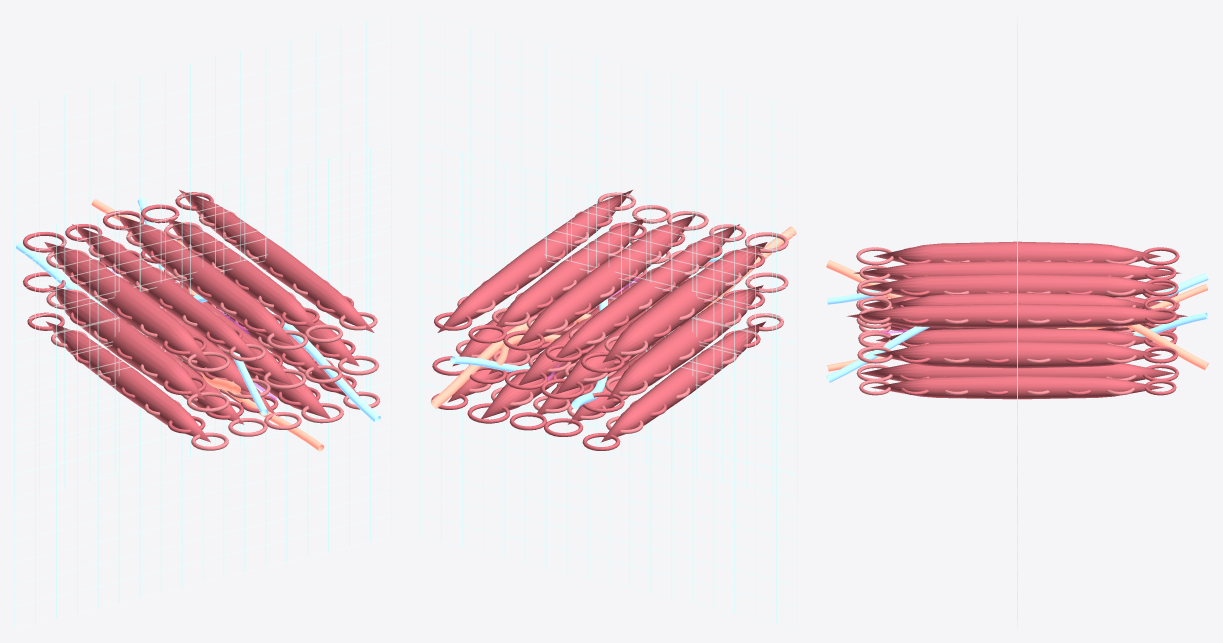
The model's file is heart-tissue-responding-3.glb.
The picture shows the model from 3 angles, left to right: view 1: azimuth 30°, elevation 25°; view 2: azimuth 150°, elevation 25°; view 3: azimuth 270°, elevation 25°; orthographic projection. The views are drawn at different scales.
Visible parts, largest first — view 1: ECM_Bot, ECM_Top, Fibre_12, Fibre_14, Fibre_10, Fibre_11, Fibre_5, Fibre_0, Fibre_13, CapVen1, Fibre_7, Fibre_6 (+6 smaller); view 2: ECM_Bot, ECM_Top, Fibre_12, Fibre_14, Fibre_10, Fibre_11, Fibre_5, Fibre_0, Fibre_13, CapArt1, Fibre_6, Fibre_7 (+7 smaller); view 3: Fibre_14, Fibre_9, Fibre_12, Fibre_4, Fibre_10, Fibre_11, Fibre_8, Fibre_3, Fibre_13, CapArt1, CapVen1, CapVen2 (+1 smaller).
Boxes of the visible parts, x1=… form: ECM_Bot: x1=14, y1=142, x2=391, y2=628; ECM_Top: x1=14, y1=14, x2=391, y2=500; Fibre_12: x1=116, y1=215, x2=294, y2=345; Fibre_14: x1=179, y1=190, x2=374, y2=332; Fibre_10: x1=44, y1=242, x2=209, y2=362; Fibre_11: x1=72, y1=224, x2=259, y2=361; Fibre_5: x1=48, y1=285, x2=204, y2=399; Fibre_0: x1=46, y1=321, x2=210, y2=442; Fibre_13: x1=166, y1=218, x2=318, y2=329; CapVen1: x1=16, y1=241, x2=380, y2=422; Fibre_7: x1=148, y1=264, x2=293, y2=384; Fibre_6: x1=123, y1=279, x2=249, y2=392; ECM_Bot: x1=420, y1=142, x2=797, y2=628; ECM_Top: x1=420, y1=14, x2=797, y2=500; Fibre_12: x1=517, y1=215, x2=695, y2=345; Fibre_14: x1=437, y1=190, x2=632, y2=332; Fibre_10: x1=602, y1=242, x2=767, y2=362; Fibre_11: x1=552, y1=224, x2=739, y2=361; Fibre_5: x1=607, y1=285, x2=763, y2=399; Fibre_0: x1=601, y1=321, x2=765, y2=442; Fibre_13: x1=493, y1=218, x2=645, y2=329; CapArt1: x1=431, y1=226, x2=796, y2=408; Fibre_6: x1=556, y1=279, x2=688, y2=393; Fibre_7: x1=518, y1=264, x2=663, y2=385; Fibre_14: x1=847, y1=303, x2=1187, y2=328; Fibre_9: x1=873, y1=341, x2=1160, y2=368; Fibre_12: x1=861, y1=274, x2=1173, y2=297; Fibre_4: x1=870, y1=375, x2=1163, y2=399; Fibre_10: x1=874, y1=241, x2=1160, y2=262; Fibre_11: x1=853, y1=261, x2=1181, y2=280; Fibre_8: x1=876, y1=328, x2=1153, y2=345; Fibre_3: x1=860, y1=363, x2=1174, y2=381; Fibre_13: x1=884, y1=292, x2=1150, y2=307; CapArt1: x1=826, y1=260, x2=1208, y2=370; CapVen1: x1=826, y1=273, x2=1208, y2=382; CapVen2: x1=827, y1=290, x2=1207, y2=337.
Bounding box in the file's own units: 4 × 5.3 × 4.04.
